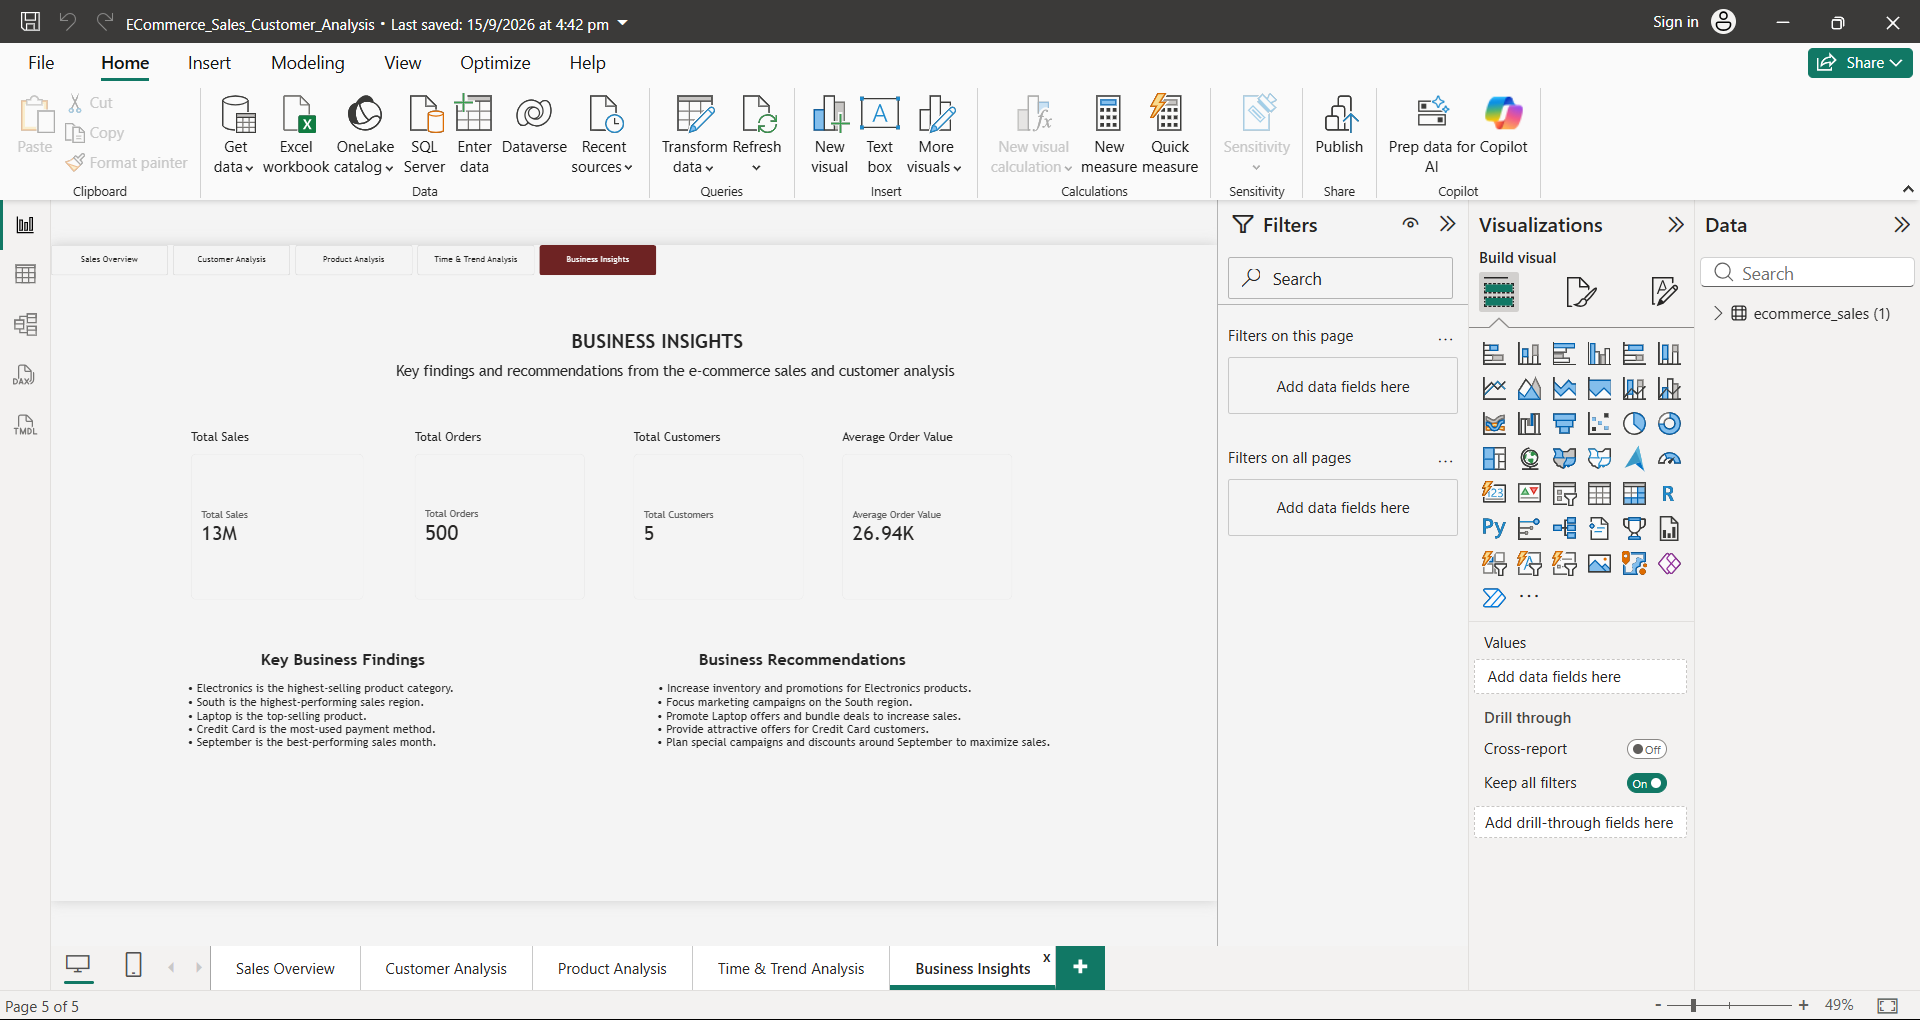

What the dashboard file says about the page in this screenshot:
{"tool":"powerbi","page":{"name":"Business Insights","canvas":[1920,1080],"ordinal":4},"visuals":[{"type":"textbox","box":[10,0,280,280],"z":0},{"type":"textbox","box":[47,139,1781,126.1],"z":1000},{"type":"cardVisual","title":"Total Sales","fields":{"Data":["ecommerce_sales (1).Total Sales"]},"box":[230.9,303.6,284.4,280.1],"z":2000},{"type":"cardVisual","title":"Total Orders","fields":{"Data":["ecommerce_sales (1).Total Orders"]},"box":[598.7,303.6,280,280],"z":3000},{"type":"cardVisual","title":"Total Customers","fields":{"Data":["ecommerce_sales (1).Total Customers"]},"box":[960,303.6,280,280],"z":4000},{"type":"cardVisual","title":"Average Order Value","fields":{"Data":["ecommerce_sales (1).Average Order Value"]},"box":[1302.1,303.6,280,280],"z":5000},{"type":"textbox","box":[124,660.7,650,290.8],"z":6000},{"type":"textbox","box":[739.8,660.7,962.1,207.4],"z":7000},{"type":"pageNavigator","box":[0,0,1000,50],"z":8000}]}

Visuals, with their boxes on the page's 1920x1080 design canvas (x1, y1, x2, y2). These are canvas units, not pixel positions in the 1920x1020 screenshot, which may show the page scaled, cropped or inside an application window:
textbox: box(10, 0, 290, 280)
textbox: box(47, 139, 1828, 265)
"Total Sales" cardVisual: box(231, 304, 515, 584)
"Total Orders" cardVisual: box(599, 304, 879, 584)
"Total Customers" cardVisual: box(960, 304, 1240, 584)
"Average Order Value" cardVisual: box(1302, 304, 1582, 584)
textbox: box(124, 661, 774, 952)
textbox: box(740, 661, 1702, 868)
pageNavigator: box(0, 0, 1000, 50)
